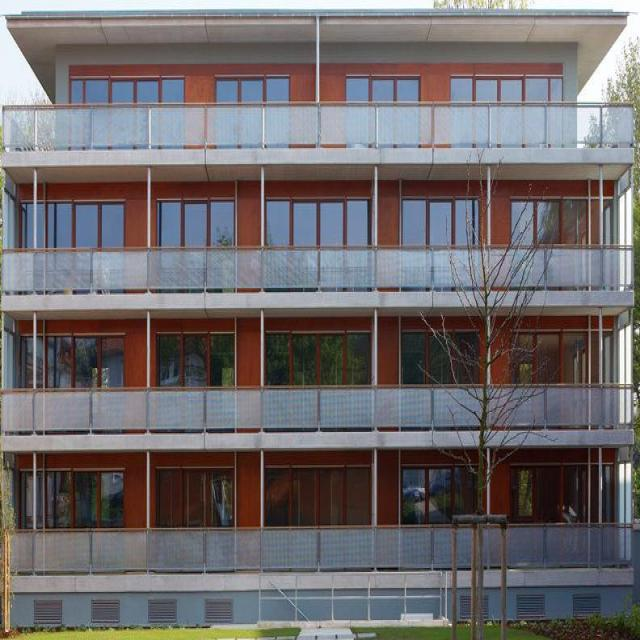Railing: (3, 245, 633, 292), (2, 384, 632, 431), (2, 104, 635, 148), (5, 528, 631, 568)
plant: (601, 32, 639, 103)
wall: (0, 12, 633, 630)
windows: (266, 331, 374, 383), (268, 474, 374, 526), (512, 474, 618, 523), (511, 332, 616, 381), (267, 198, 371, 246), (20, 337, 123, 384), (22, 201, 124, 248), (511, 197, 613, 244), (22, 479, 124, 526), (156, 469, 237, 525), (154, 327, 235, 382), (403, 472, 482, 525), (401, 330, 481, 382), (158, 199, 235, 245), (402, 197, 479, 243), (70, 76, 186, 105), (451, 77, 562, 103), (346, 73, 420, 103), (215, 80, 290, 104)
